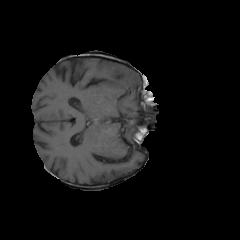glioma: (95, 61, 140, 109)
